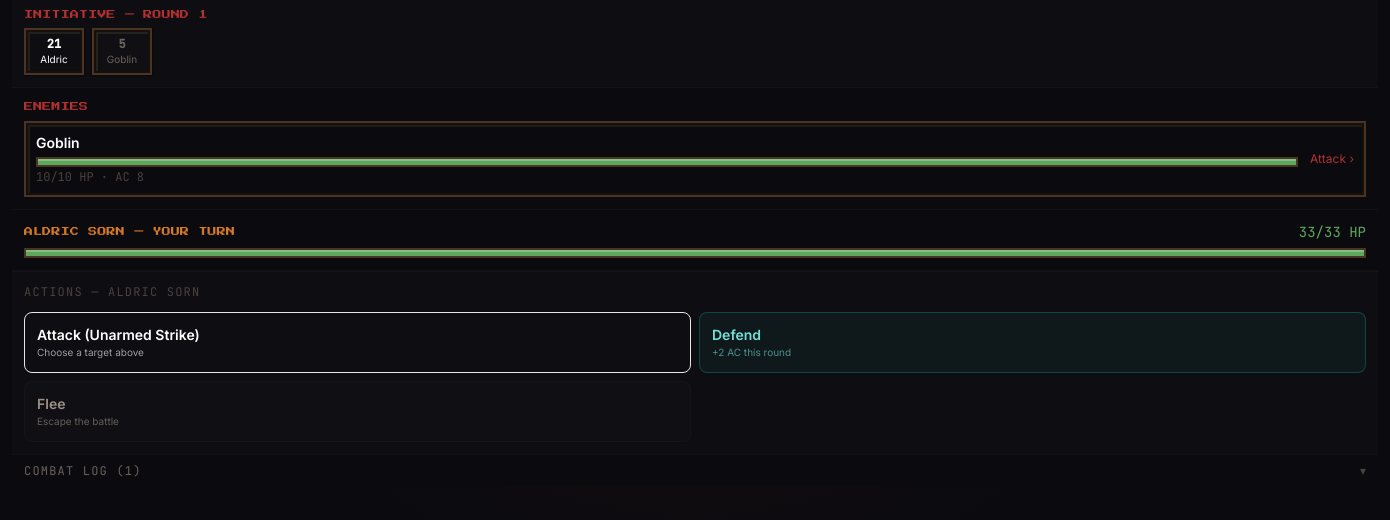
Scenario: CombatPanel — combat log › toggles the combat log open on click
Click the text "Combat Log (1)". click: (83, 471)
box: top-left (24, 463), bottom-right (142, 479)
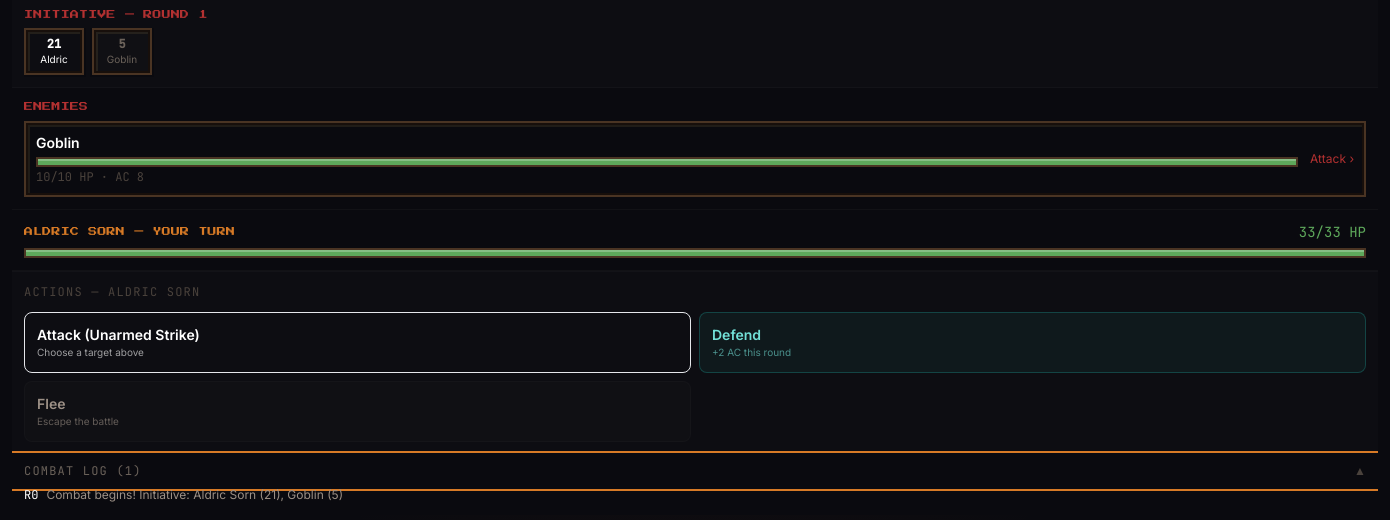
Check: the text "Combat begins! Initiative: Aldric Sorn (21), Goblin (5)" is shown, box top-left (46, 487), bottom-right (343, 503)
